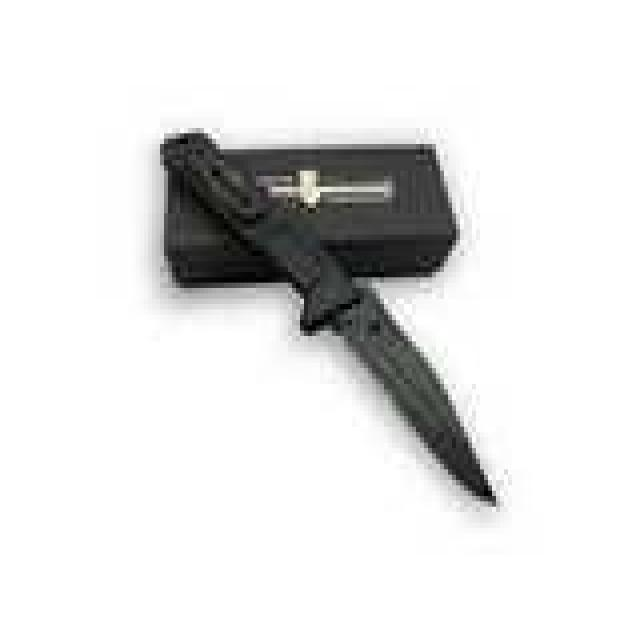knife: (116, 122, 579, 565)
